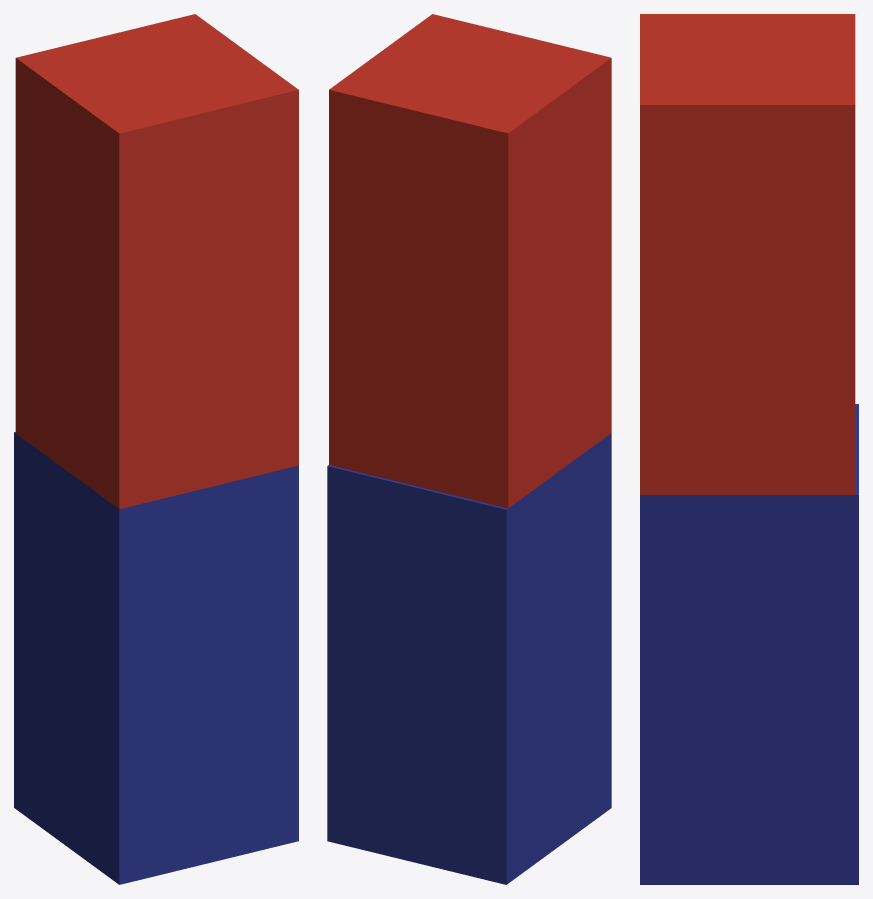
File: BarMagnet180202.fbx
The picture shows the model from 3 angles, left to right: view 1: azimuth 30°, elevation 25°; view 2: azimuth 150°, elevation 25°; view 3: azimuth 270°, elevation 25°; orthographic projection. The views are drawn at different scales.
Parts seen in each view (by area): view 1: Body1, Body2; view 2: Body1, Body2; view 3: Body1, Body2.
Part boxes in pixels (x1,y1,x2,y2): Body1: (15, 14, 298, 509); Body2: (14, 432, 298, 884); Body1: (329, 14, 611, 508); Body2: (327, 433, 611, 884); Body1: (640, 14, 855, 494); Body2: (640, 404, 858, 884).
Bounding box in the file's own units: 25 × 100 × 25.42.
